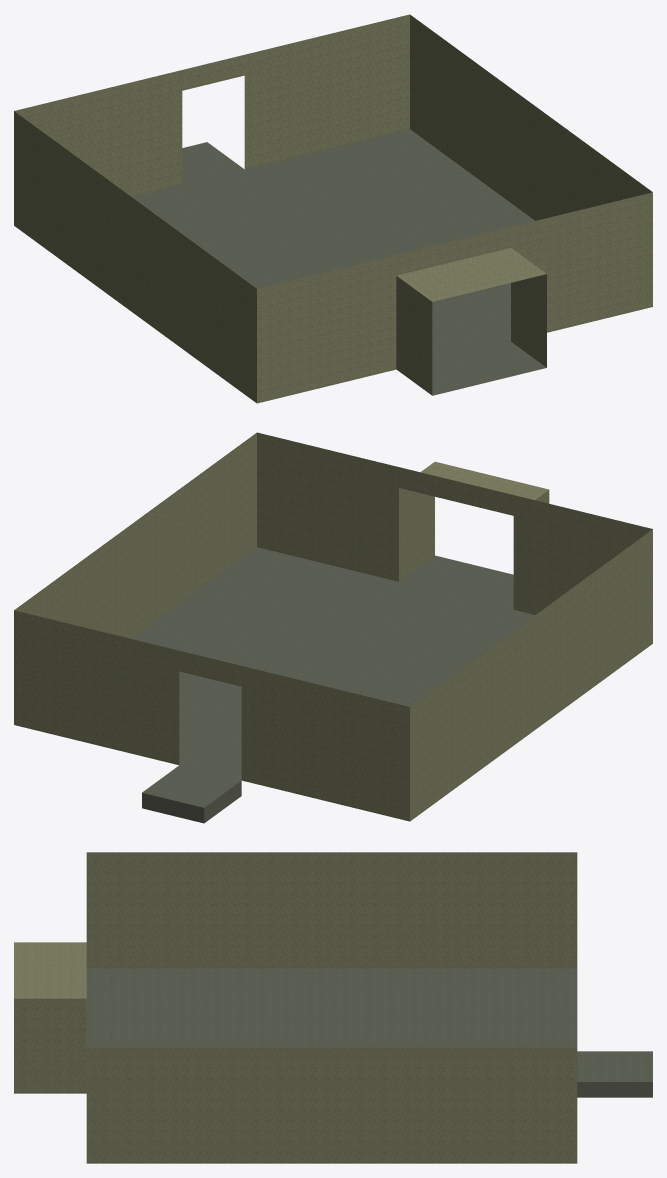
Rendered from ROOM_Enter.fbx.
The picture shows the model from 3 angles, top to bottom: view 1: azimuth 30°, elevation 25°; view 2: azimuth 150°, elevation 25°; view 3: azimuth 270°, elevation 25°; orthographic projection.
Visible parts, largest first — view 1: MapOfHuntingLevel1; view 2: MapOfHuntingLevel1; view 3: MapOfHuntingLevel1.
Part boxes in pixels (x1=…): MapOfHuntingLevel1: x1=14, y1=14, x2=652, y2=403; MapOfHuntingLevel1: x1=14, y1=432, x2=652, y2=823; MapOfHuntingLevel1: x1=14, y1=852, x2=652, y2=1163.
Size of the model in its own units: 3975 by 1250 by 5500.
